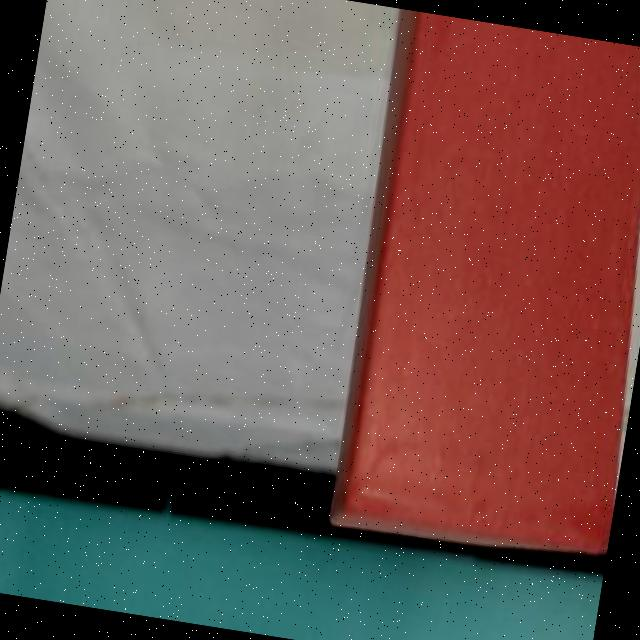redbox: (338, 12, 640, 563)
